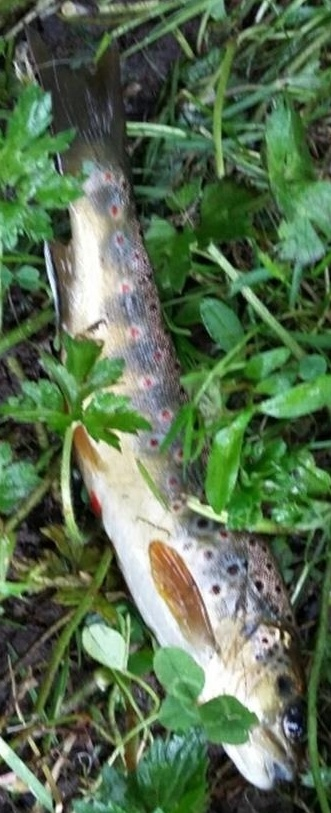Salmo trutta subsp. fario: (20, 20, 311, 793)
